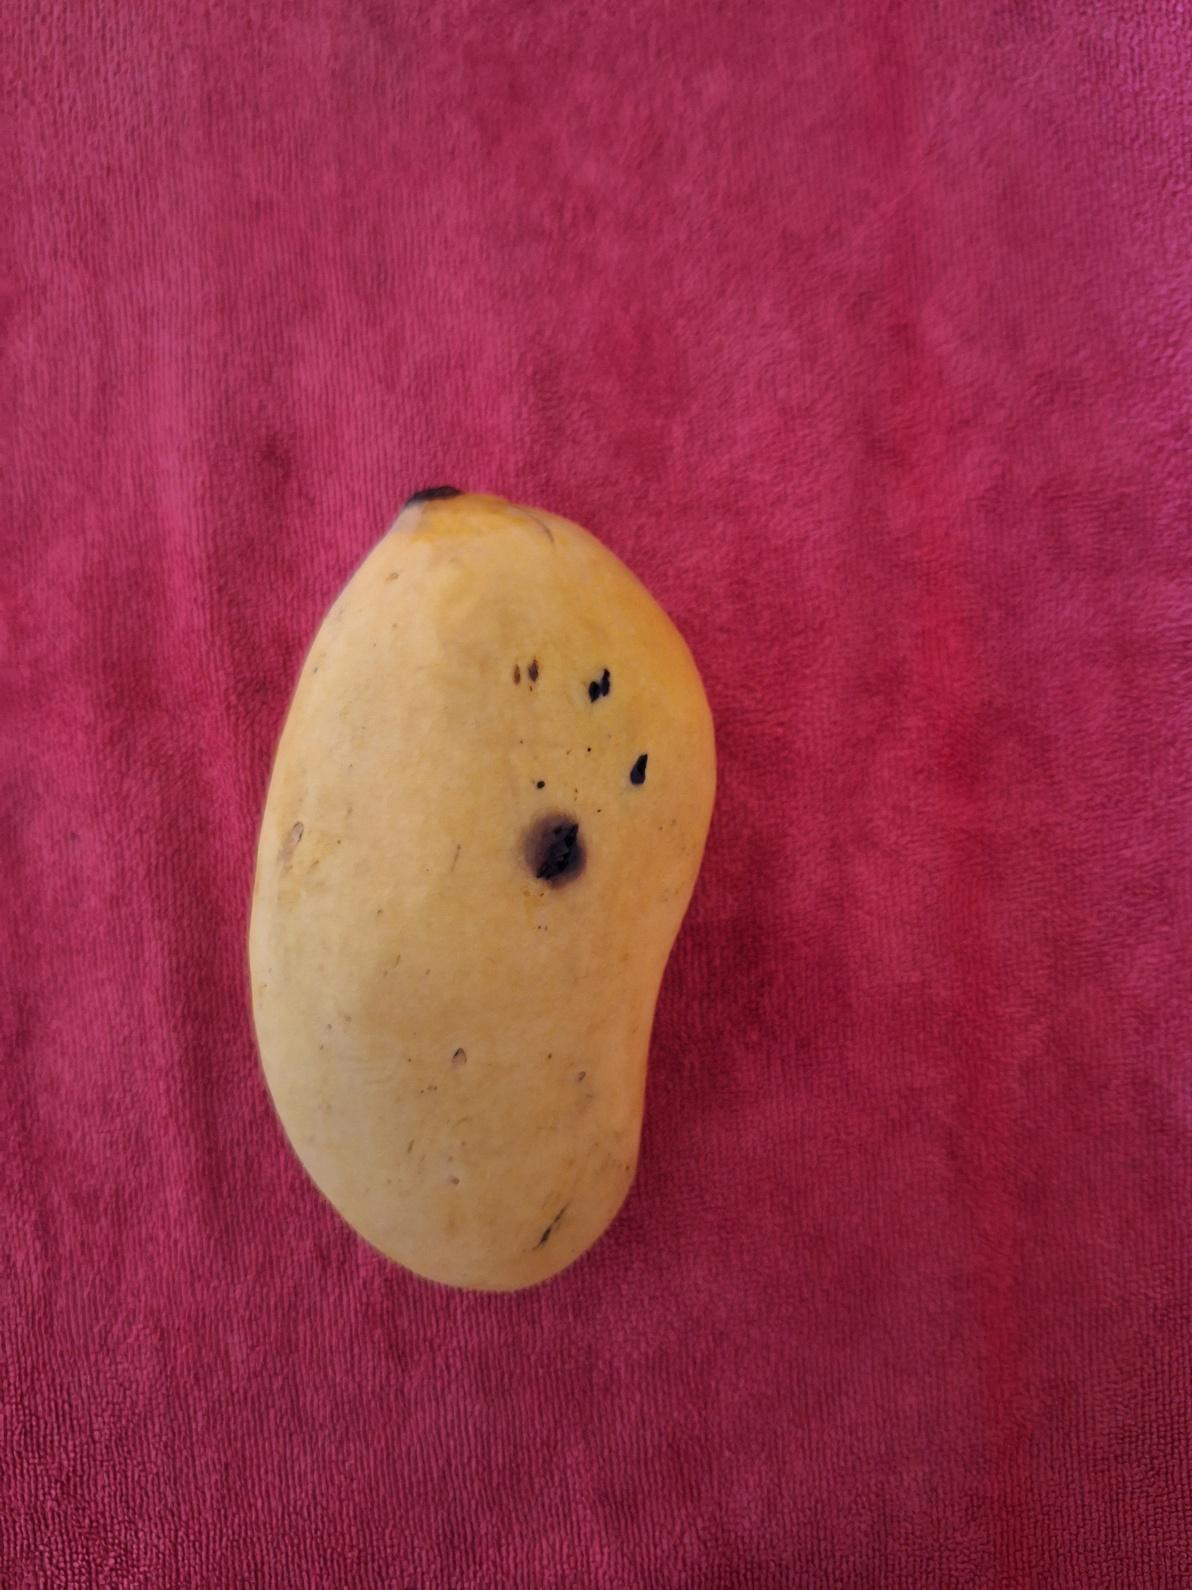mango: (244, 483, 717, 1293)
